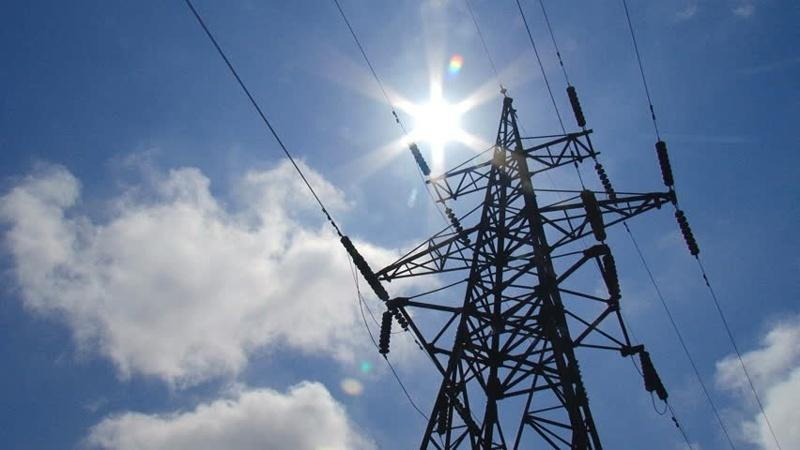power_tower: (335, 87, 703, 450)
